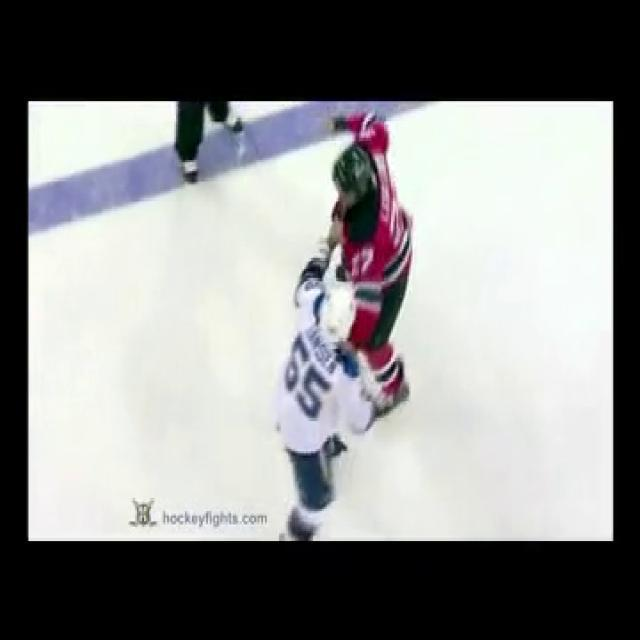violence: (275, 111, 413, 540)
